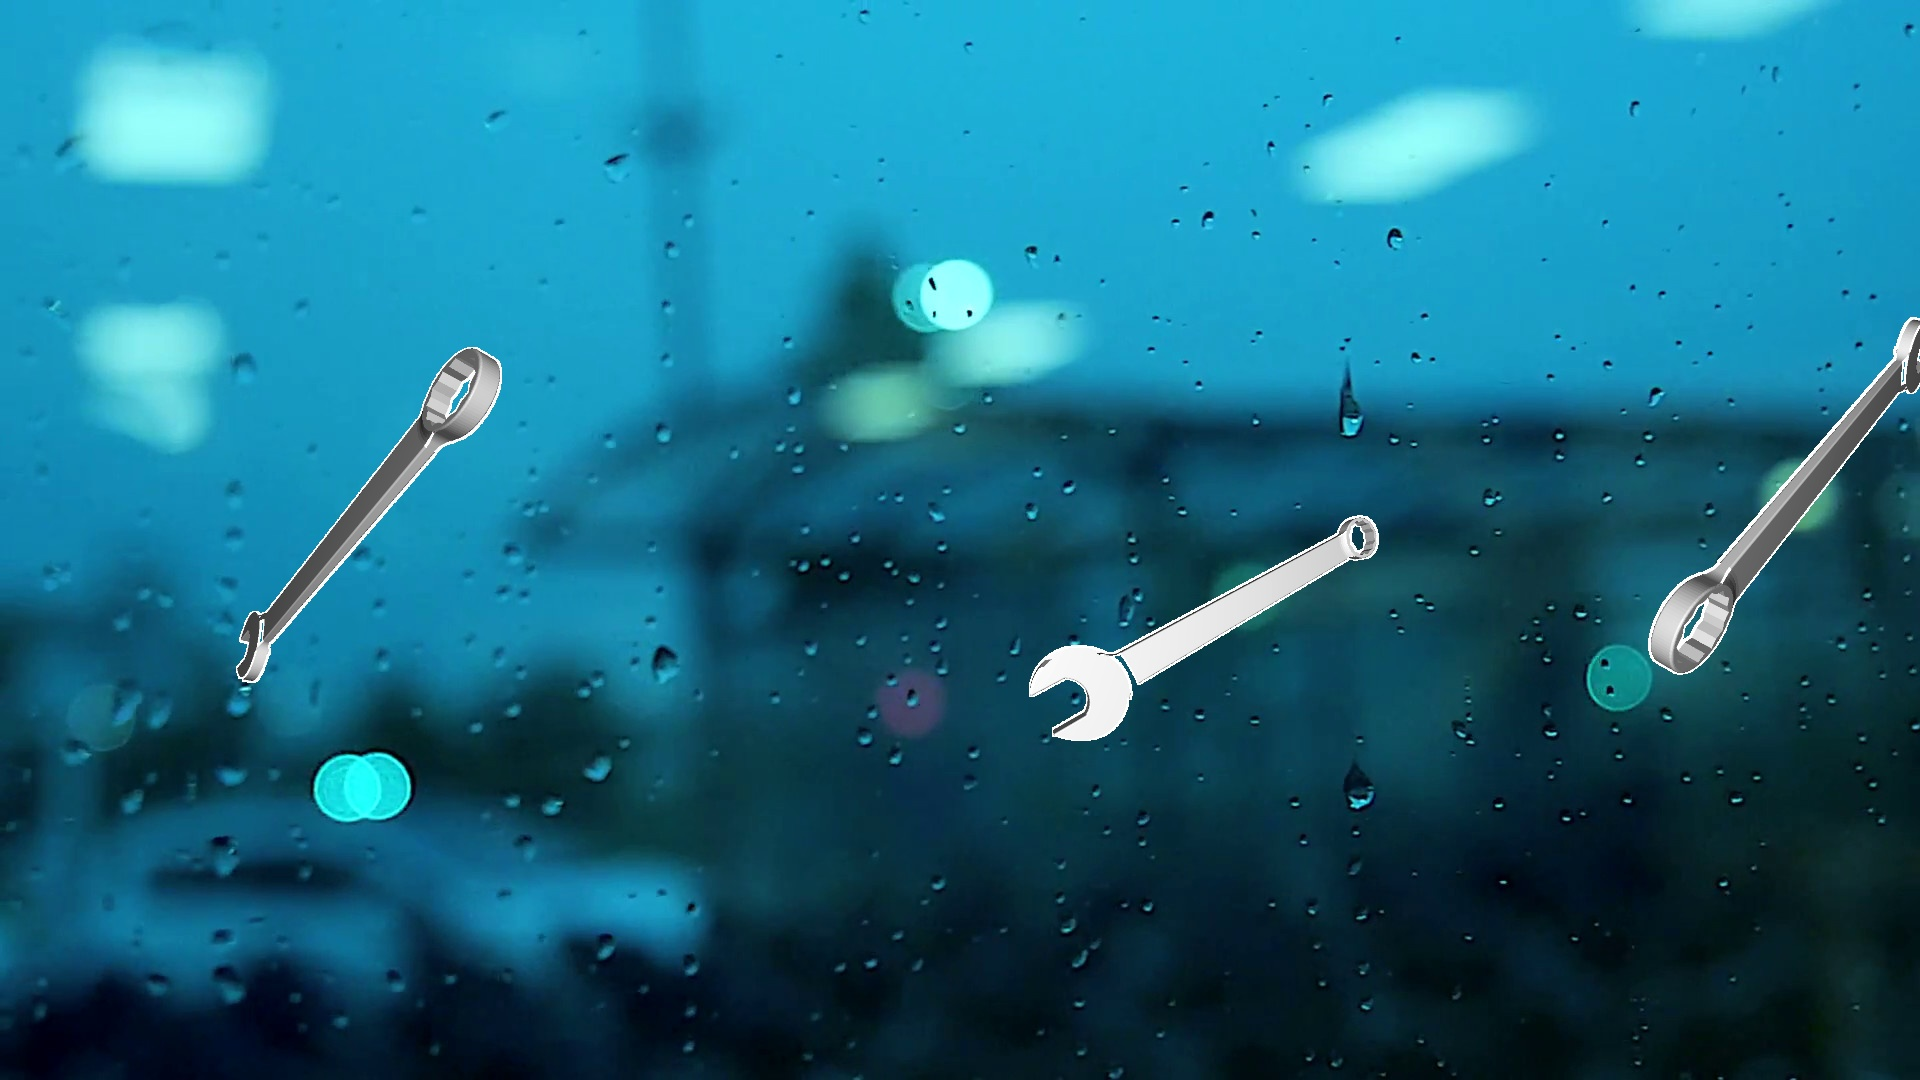Mixed Key: (1648, 316, 1919, 674), (236, 347, 501, 682), (1029, 516, 1378, 740)
